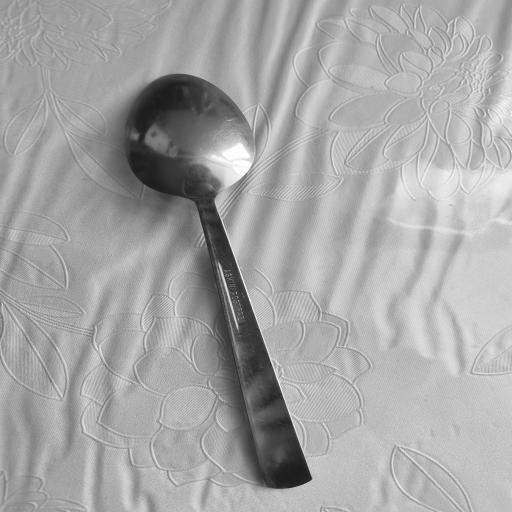spoon: (128, 75, 326, 488)
